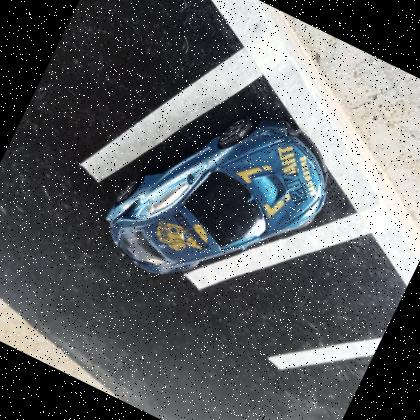Car: (105, 114, 327, 273)
